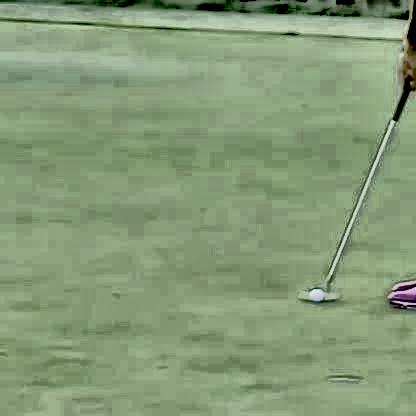golfball: (305, 288, 323, 301)
